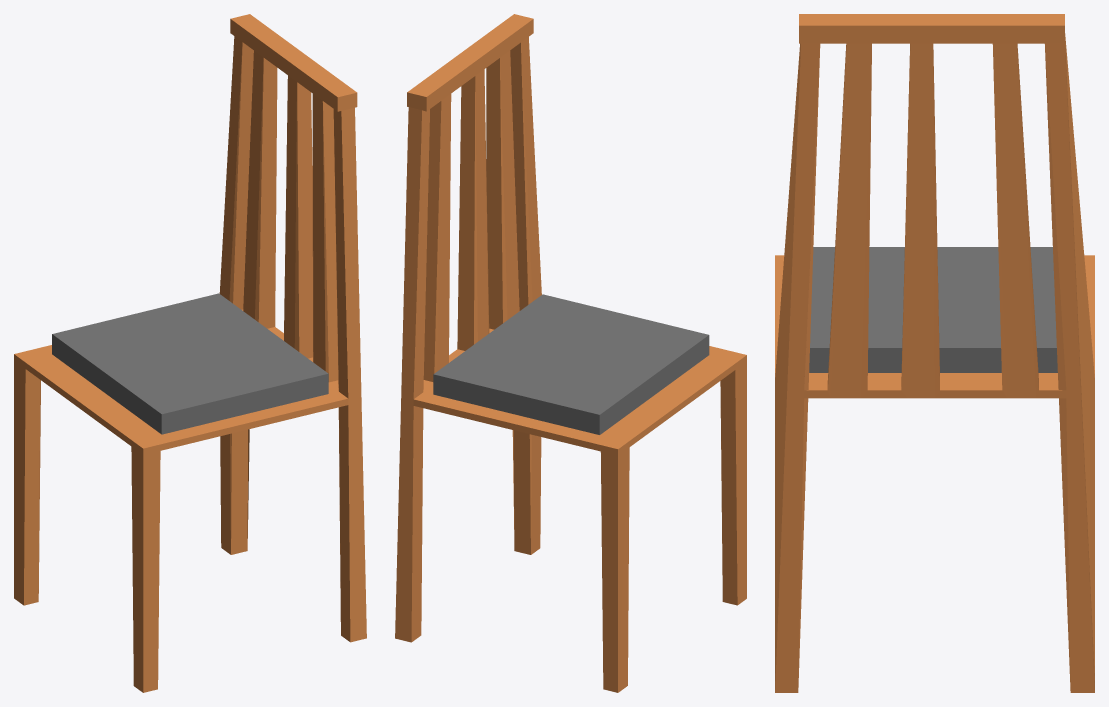
Rendered from stuhl.dae.
3 renders of one model, left to right at view 1: azimuth 30°, elevation 25°; view 2: azimuth 150°, elevation 25°; view 3: azimuth 270°, elevation 25°, orthographic. The views are drawn at different scales.
Parts seen in each view (by area): view 1: Cube; view 2: Cube; view 3: Cube.
Boxes of the visible parts, x1,y1,x2,y2 form: Cube: [14, 14, 366, 692]; Cube: [395, 14, 746, 692]; Cube: [775, 14, 1094, 692].
Bounding box in the file's own units: 0.5502 × 0.5501 × 1.27.
